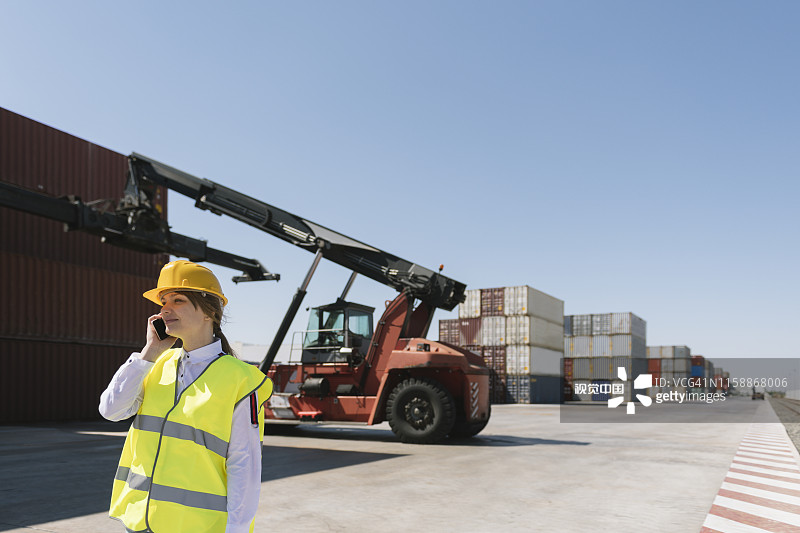calling: (138, 304, 181, 369)
